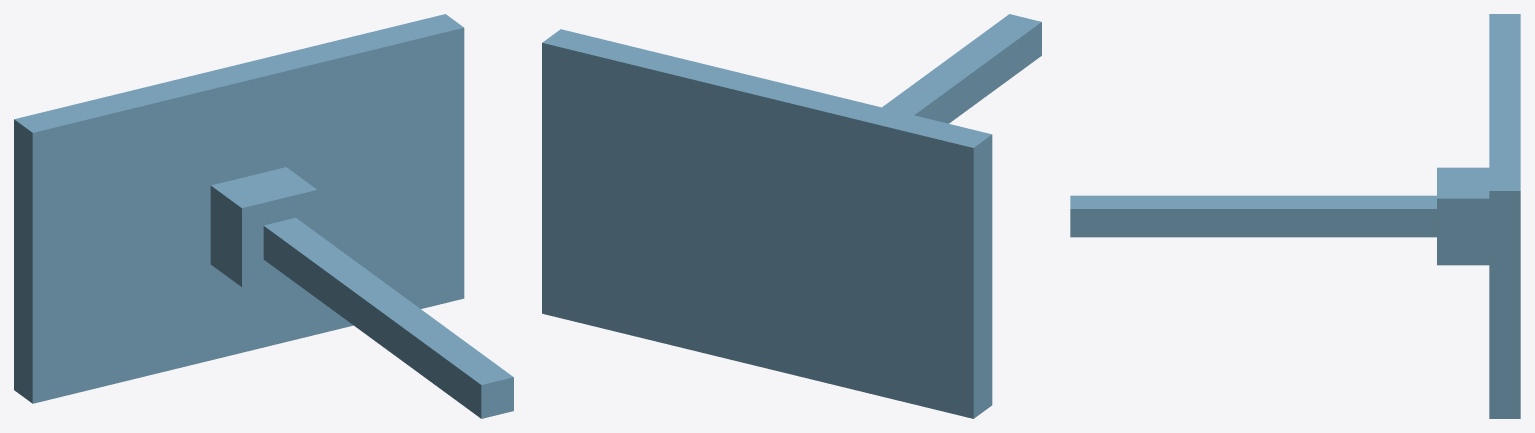
File: estacion.glb
3 views of the same model, side by side, from view 1: azimuth 30°, elevation 25°; view 2: azimuth 150°, elevation 25°; view 3: azimuth 270°, elevation 25° (orthographic). The views are drawn at different scales.
Visible parts, largest first — view 1: world; view 2: world; view 3: world.
Part boxes in pixels (x1,y1,x2,y2): world: [14, 14, 513, 418]; world: [542, 14, 1041, 418]; world: [1070, 14, 1520, 418].
Bounding box in the file's own units: 2 × 1.2 × 2.15.
